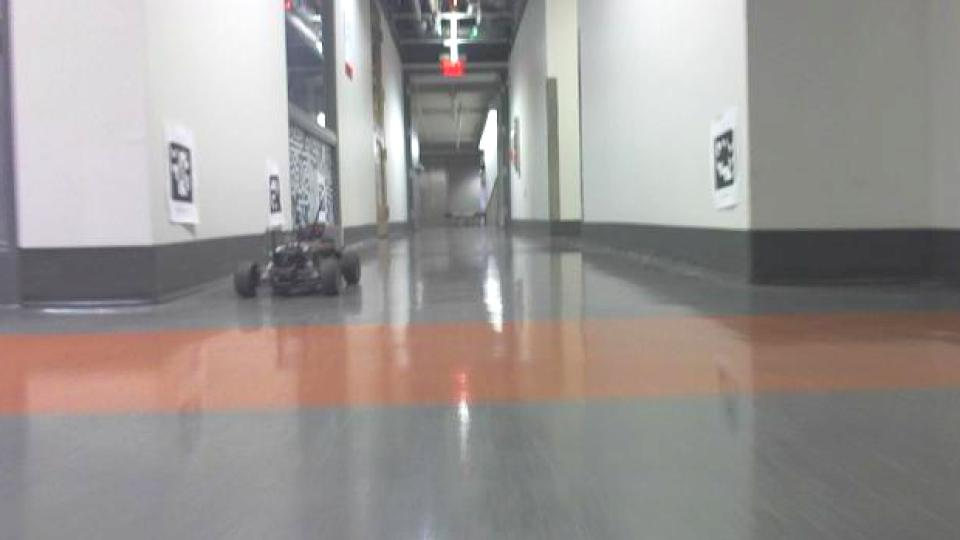car: (229, 210, 364, 302)
